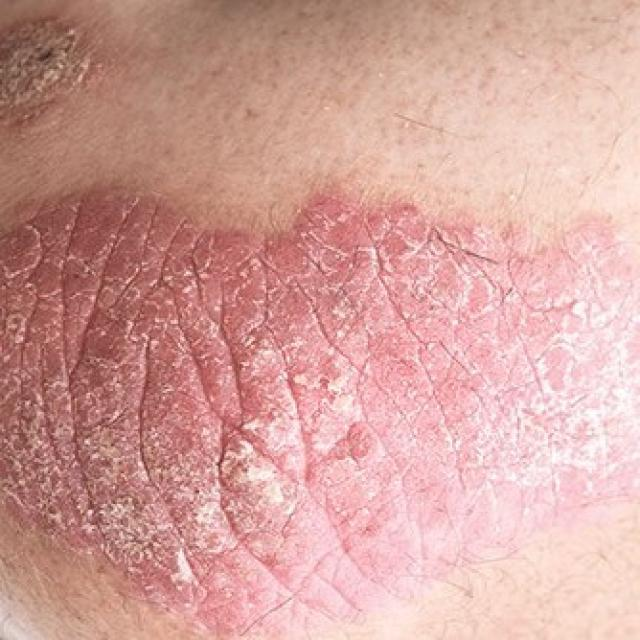Psoriasis: (2, 187, 638, 638), (0, 12, 115, 150)
